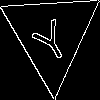Y: (26, 10, 73, 66)
